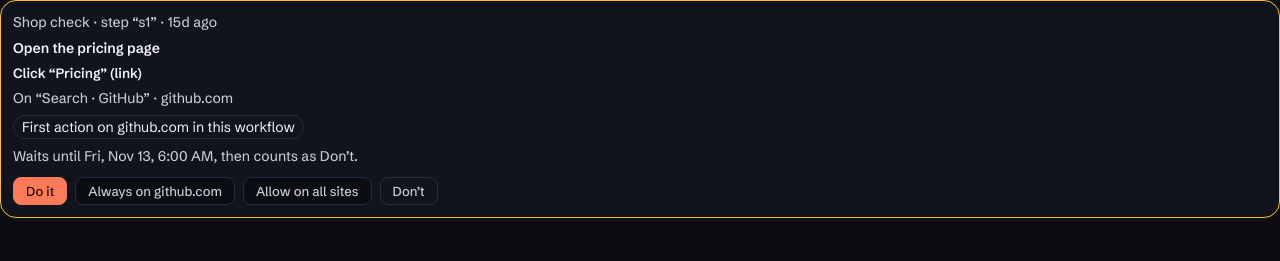
Test: ActionCard for a browser action › shows a refused answer
This screenshot has width=1280, height=261.
Click the button "Do it": (40, 191) [13, 177, 67, 205]
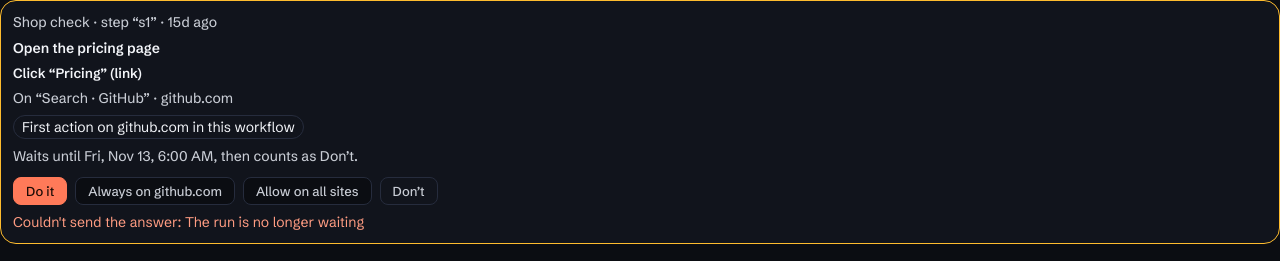
Now the message shows "The run is no longer waiting", box [13, 213, 364, 231]
